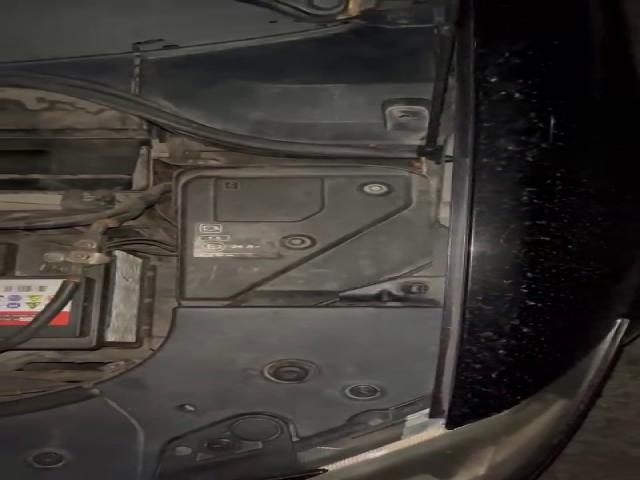accumulator: (0, 231, 155, 351)
fuse_box: (178, 175, 415, 301)
